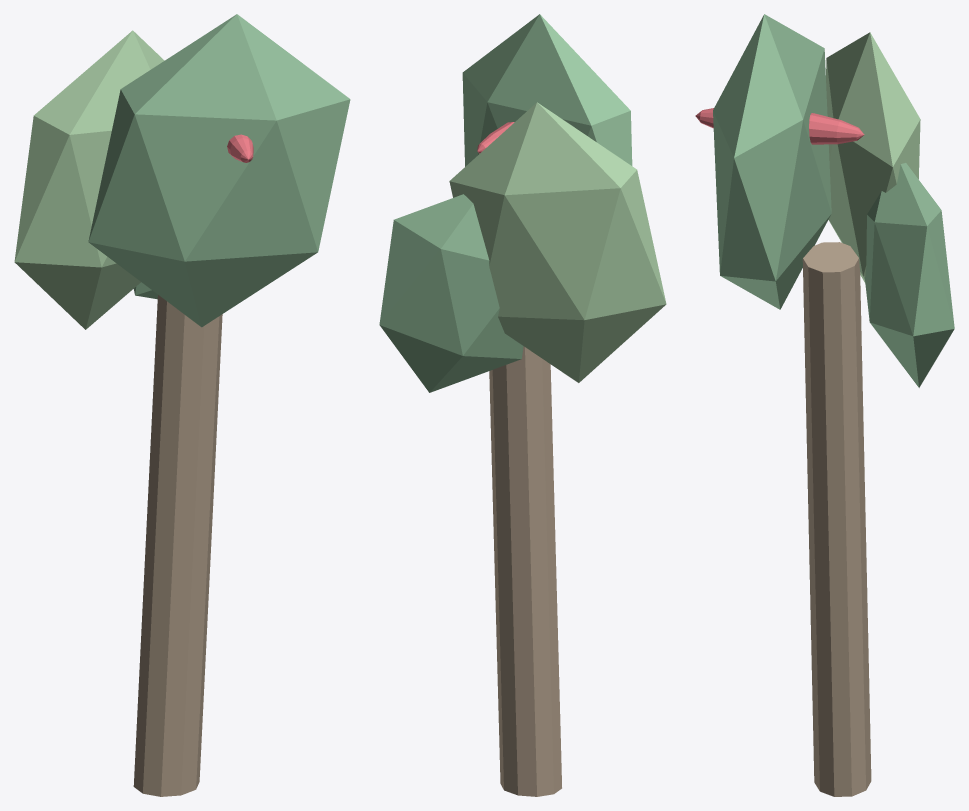
File: TREE_BOTTLEBRUSH_001_v002_LOD_MAP.glb
3 views of the same model, side by side, from view 1: azimuth 30°, elevation 25°; view 2: azimuth 150°, elevation 25°; view 3: azimuth 270°, elevation 25° (orthographic). The views are drawn at different scales.
Visible parts, largest first — view 1: TREE_BOTTLEBRUSH_001_LEAF_CLUSTER_MAIN_003_LOD_MAP, TREE_BOTTLEBRUSH_001_TRUNK_MAIN_001_LOD_MAP, TREE_BOTTLEBRUSH_001_LEAF_CLUSTER_MAIN_001_LOD_MAP, TREE_BOTTLEBRUSH_001_FLOWER_CLUSTER_MAIN_003_LOD_MAP; view 2: TREE_BOTTLEBRUSH_001_LEAF_CLUSTER_MAIN_001_LOD_MAP, TREE_BOTTLEBRUSH_001_TRUNK_MAIN_001_LOD_MAP, TREE_BOTTLEBRUSH_001_LEAF_CLUSTER_MAIN_005_LOD_MAP, TREE_BOTTLEBRUSH_001_LEAF_CLUSTER_MAIN_003_LOD_MAP; view 3: TREE_BOTTLEBRUSH_001_TRUNK_MAIN_001_LOD_MAP, TREE_BOTTLEBRUSH_001_LEAF_CLUSTER_MAIN_003_LOD_MAP, TREE_BOTTLEBRUSH_001_LEAF_CLUSTER_MAIN_005_LOD_MAP, TREE_BOTTLEBRUSH_001_LEAF_CLUSTER_MAIN_001_LOD_MAP, TREE_BOTTLEBRUSH_001_FLOWER_CLUSTER_MAIN_003_LOD_MAP.
Part boxes in pixels (x1,y1,x2,y2): TREE_BOTTLEBRUSH_001_LEAF_CLUSTER_MAIN_003_LOD_MAP: [88, 14, 350, 327]; TREE_BOTTLEBRUSH_001_TRUNK_MAIN_001_LOD_MAP: [133, 295, 222, 796]; TREE_BOTTLEBRUSH_001_LEAF_CLUSTER_MAIN_001_LOD_MAP: [14, 30, 164, 329]; TREE_BOTTLEBRUSH_001_FLOWER_CLUSTER_MAIN_003_LOD_MAP: [227, 134, 253, 162]; TREE_BOTTLEBRUSH_001_LEAF_CLUSTER_MAIN_001_LOD_MAP: [449, 102, 666, 382]; TREE_BOTTLEBRUSH_001_TRUNK_MAIN_001_LOD_MAP: [489, 346, 561, 796]; TREE_BOTTLEBRUSH_001_LEAF_CLUSTER_MAIN_005_LOD_MAP: [379, 194, 523, 392]; TREE_BOTTLEBRUSH_001_LEAF_CLUSTER_MAIN_003_LOD_MAP: [462, 14, 632, 166]; TREE_BOTTLEBRUSH_001_TRUNK_MAIN_001_LOD_MAP: [802, 242, 871, 796]; TREE_BOTTLEBRUSH_001_LEAF_CLUSTER_MAIN_003_LOD_MAP: [713, 14, 831, 309]; TREE_BOTTLEBRUSH_001_LEAF_CLUSTER_MAIN_005_LOD_MAP: [864, 163, 954, 387]; TREE_BOTTLEBRUSH_001_LEAF_CLUSTER_MAIN_001_LOD_MAP: [826, 32, 920, 282]; TREE_BOTTLEBRUSH_001_FLOWER_CLUSTER_MAIN_003_LOD_MAP: [695, 108, 864, 144].
Bounding box in the file's own units: 1.66 × 4.54 × 1.36.
